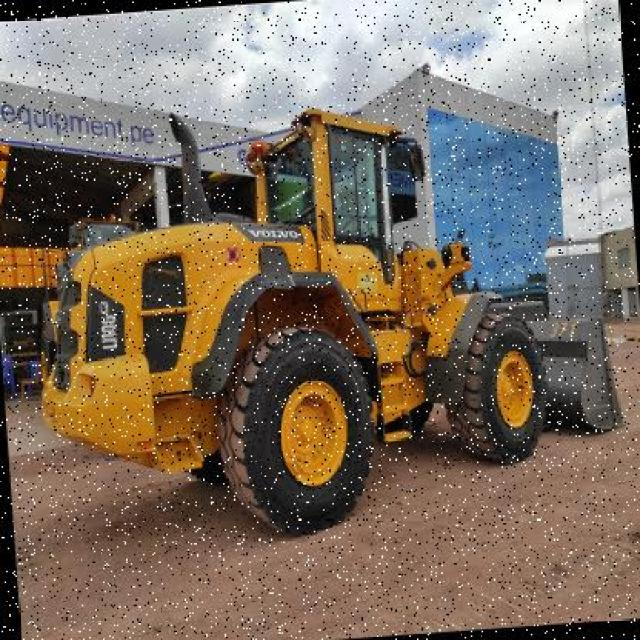buldozerpayloadergrader: (9, 86, 632, 552)
